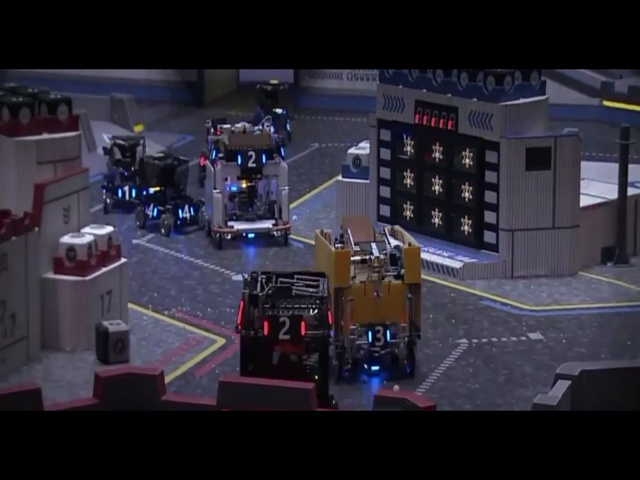plate: (254, 315, 313, 343), (235, 142, 270, 175), (365, 321, 395, 347), (176, 197, 198, 226), (115, 180, 139, 203), (206, 137, 221, 169), (142, 199, 160, 223)
